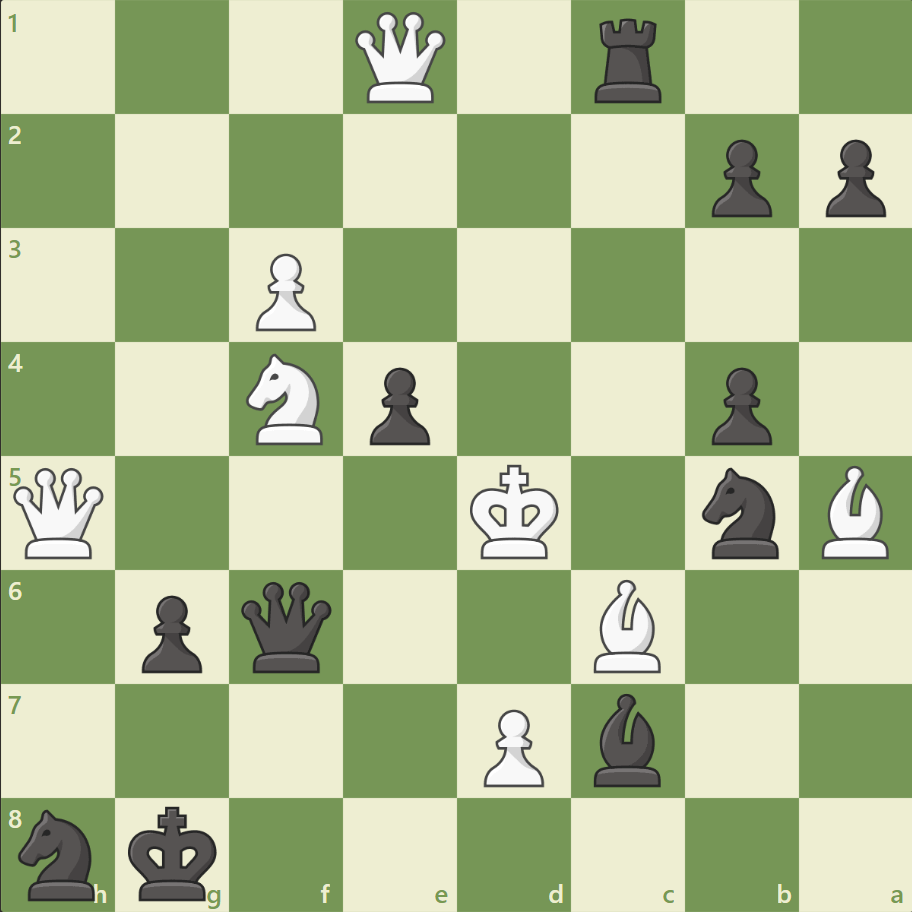B: (812, 460, 896, 563), (585, 574, 669, 676)
K: (465, 458, 565, 566)
N: (238, 348, 335, 450)
P: (474, 700, 549, 791), (247, 246, 322, 337)
Q: (10, 463, 109, 562), (351, 9, 450, 108)
b: (585, 687, 669, 790)
k: (124, 798, 224, 906)
n: (692, 461, 789, 564), (11, 802, 108, 904)
p: (133, 586, 208, 677), (701, 359, 776, 450), (701, 132, 776, 223), (361, 359, 435, 450), (815, 132, 889, 223)
q: (237, 576, 336, 676)
r: (587, 12, 670, 109)
